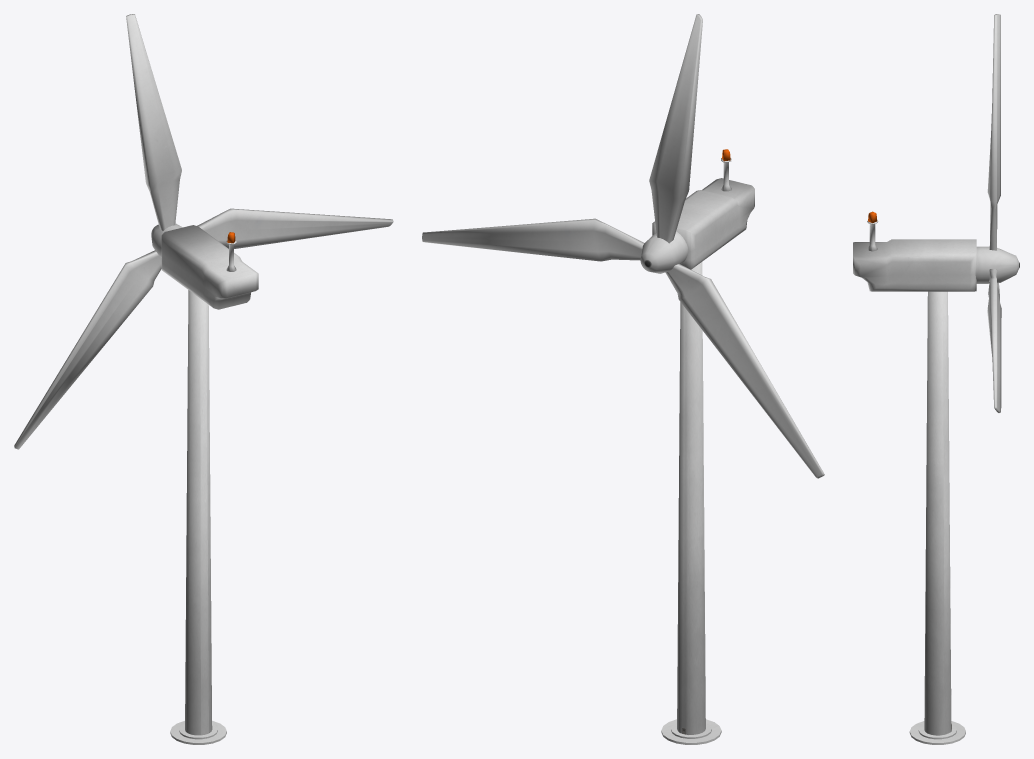
File: wind_turbine_demo.glb
The picture shows the model from 3 angles, left to right: view 1: azimuth 30°, elevation 25°; view 2: azimuth 150°, elevation 25°; view 3: azimuth 270°, elevation 25°; orthographic projection. The views are drawn at different scales.
Parts seen in each view (by area): view 1: WindTurbine.001, WindTurbine_Blades.001; view 2: WindTurbine_Blades.001, WindTurbine.001; view 3: WindTurbine.001, WindTurbine_Blades.001.
Boxes of the visible parts, x1,y1,x2,y2 form: WindTurbine.001: (161, 225, 258, 744); WindTurbine_Blades.001: (14, 14, 393, 449); WindTurbine_Blades.001: (422, 14, 824, 478); WindTurbine.001: (652, 149, 754, 744); WindTurbine.001: (853, 211, 976, 744); WindTurbine_Blades.001: (975, 14, 1019, 412).
Bounding box in the file's own units: 3.44 × 6.14 × 1.32.
1 material, 1 textured.
